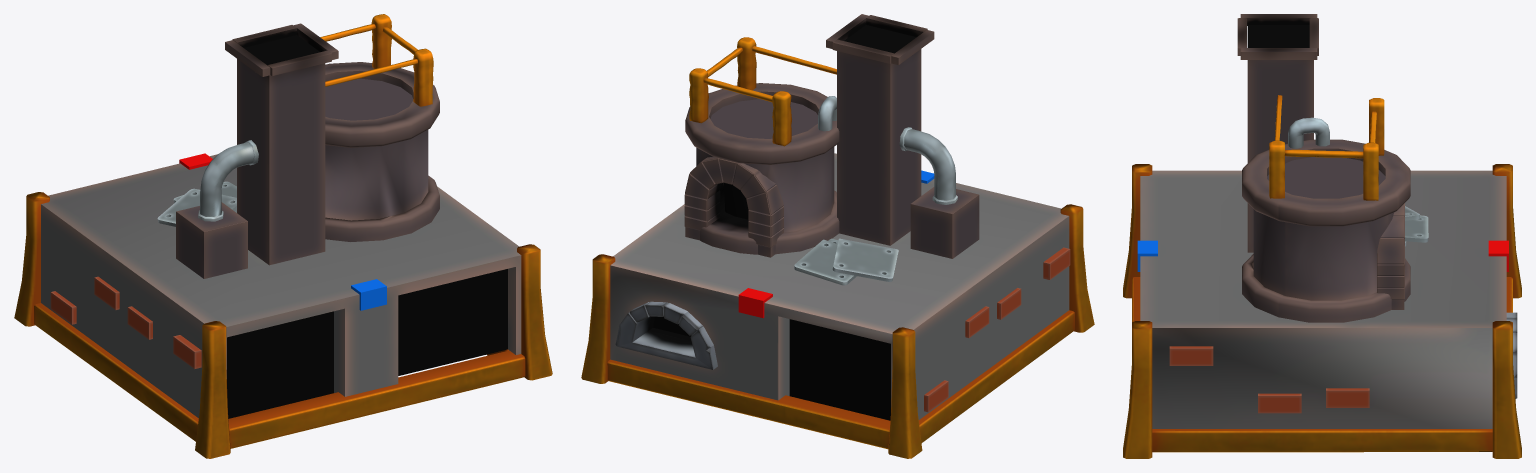
3 renders of one model, left to right at view 1: azimuth 30°, elevation 25°; view 2: azimuth 150°, elevation 25°; view 3: azimuth 270°, elevation 25°, orthographic. The views are drawn at different scales.
Visible parts, largest first — view 1: Cylinder.001_Baked; view 2: Cylinder.001_Baked; view 3: Cylinder.001_Baked.
Part boxes in pixels (x1=…): Cylinder.001_Baked: x1=14, y1=14, x2=552, y2=458; Cylinder.001_Baked: x1=581, y1=14, x2=1094, y2=458; Cylinder.001_Baked: x1=1123, y1=14, x2=1521, y2=458.
Bounding box in the file's own units: 200 × 177 × 195.
1 material, 1 textured.
